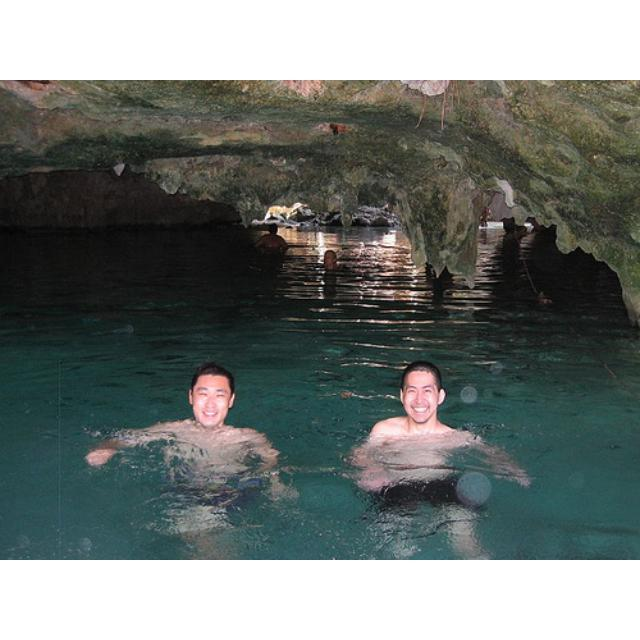human: (91, 358, 288, 496), (351, 362, 528, 495)
